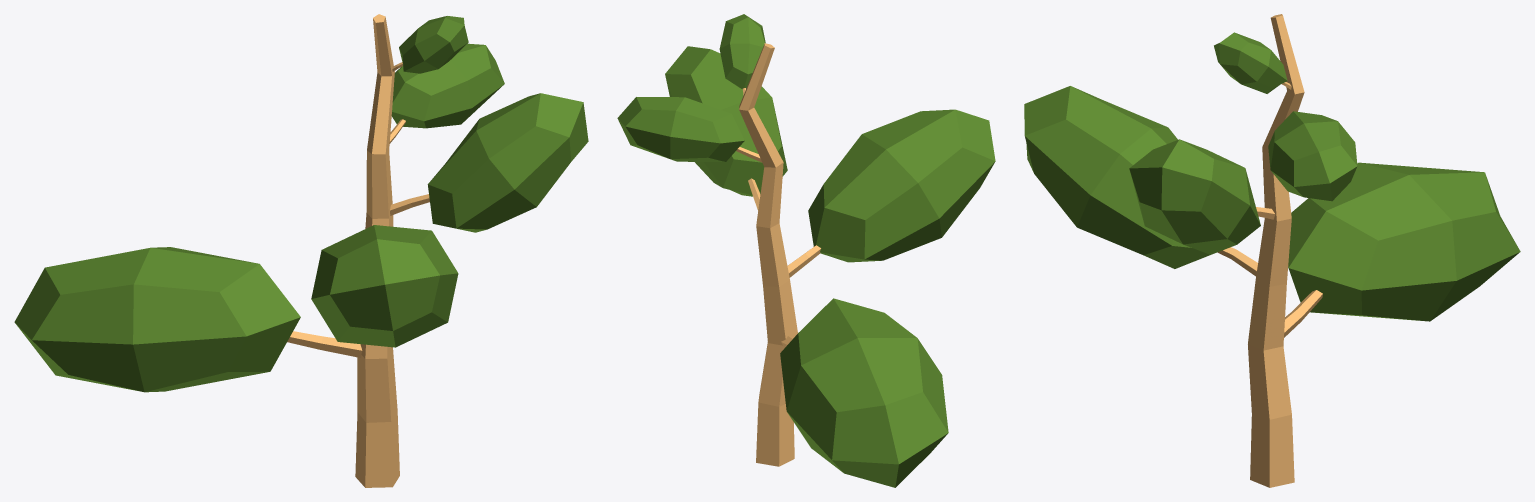
Rendered from bush.obj.
The picture shows the model from 3 angles, left to right: view 1: azimuth 30°, elevation 25°; view 2: azimuth 150°, elevation 25°; view 3: azimuth 270°, elevation 25°; orthographic projection. The views are drawn at different scales.
Visible parts, largest first — view 1: main_birch.002_leaf, main_birch.002_wood; view 2: main_birch.002_leaf, main_birch.002_wood; view 3: main_birch.002_leaf, main_birch.002_wood.
Part boxes in pixels (bbox=[...]): main_birch.002_leaf: bbox=[14, 16, 588, 392]; main_birch.002_wood: bbox=[287, 14, 429, 487]; main_birch.002_leaf: bbox=[617, 14, 995, 487]; main_birch.002_wood: bbox=[736, 43, 820, 466]; main_birch.002_leaf: bbox=[1024, 32, 1520, 321]; main_birch.002_wood: bbox=[1217, 14, 1322, 487].
Size of the model in its own units: 8.37 by 8.73 by 8.36.
